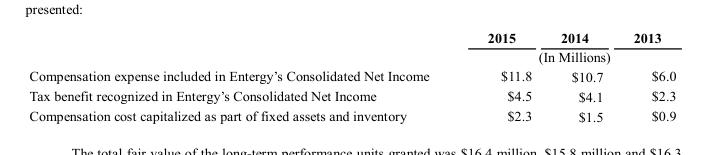table: (28, 29, 675, 124)
table column: (28, 29, 457, 124), (457, 29, 545, 124), (545, 29, 617, 124), (617, 29, 675, 124)
table column header: (28, 29, 675, 66)
table row: (28, 46, 675, 66), (28, 66, 675, 86), (28, 86, 675, 105), (28, 105, 675, 124), (28, 29, 675, 46)
table spanning cell: (457, 46, 675, 66)
